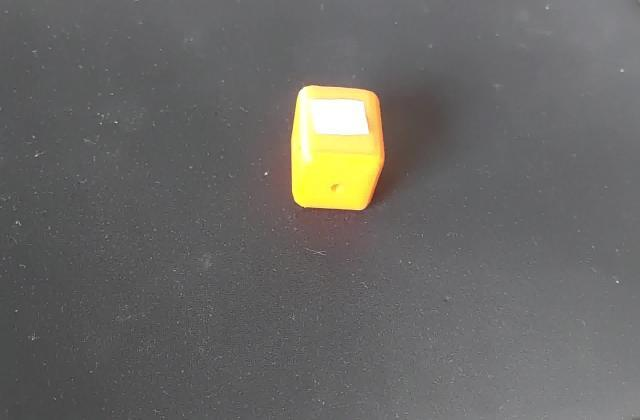sticker: (288, 76, 392, 214)
white: (305, 94, 374, 144)
